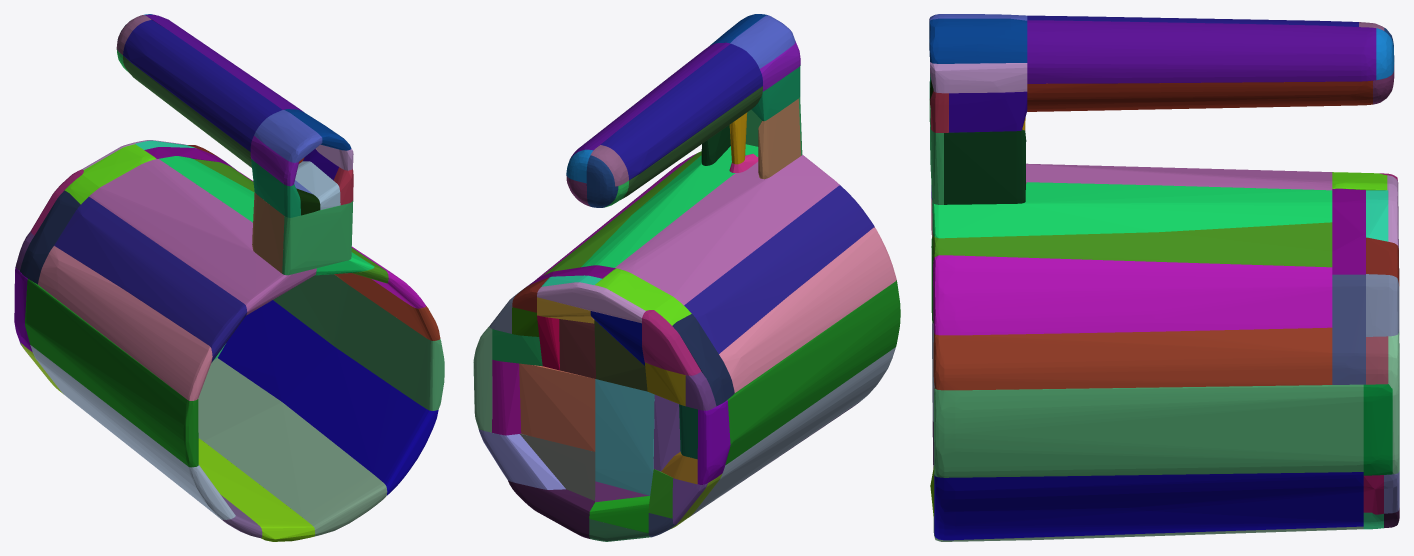
The model's file is coacd_collision.obj.
3 views of the same model, side by side, from view 1: azimuth 30°, elevation 25°; view 2: azimuth 150°, elevation 25°; view 3: azimuth 270°, elevation 25° (orthographic). The views are drawn at different scales.
Parts seen in each view (by area): view 1: geometry_5, geometry_0, geometry_7, geometry_8, geometry_18, geometry_3, geometry_24, geometry_20, geometry_6, geometry_4, geometry_10, geometry_23 (+19 smaller); view 2: geometry_7, geometry_18, geometry_8, geometry_24, geometry_20, geometry_2, geometry_9, geometry_23, geometry_6, geometry_12, geometry_35, geometry_52 (+41 smaller); view 3: geometry_3, geometry_22, geometry_5, geometry_31, geometry_27, geometry_23, geometry_30, geometry_15, geometry_25, geometry_7, geometry_42, geometry_16 (+18 smaller).
Boxes of the visible parts, <box> form: geometry_5: <box>218,300,438,495</box>; geometry_0: <box>198,358,387,536</box>; geometry_7: <box>89,159,316,315</box>; geometry_8: <box>25,279,198,467</box>; geometry_18: <box>54,197,247,362</box>; geometry_3: <box>273,274,444,410</box>; geometry_24: <box>38,246,212,400</box>; geometry_20: <box>123,20,282,151</box>; geometry_6: <box>30,345,235,519</box>; geometry_4: <box>198,438,315,541</box>; geometry_10: <box>282,201,353,275</box>; geometry_23: <box>159,156,374,275</box>; geometry_7: <box>615,154,839,305</box>; geometry_18: <box>684,185,874,353</box>; geometry_8: <box>725,280,900,465</box>; geometry_24: <box>719,227,896,392</box>; geometry_20: <box>601,44,762,179</box>; geometry_2: <box>595,379,654,495</box>; geometry_9: <box>519,363,595,451</box>; geometry_23: <box>581,144,758,267</box>; geometry_6: <box>691,347,895,515</box>; geometry_12: <box>478,429,565,489</box>; geometry_35: <box>520,433,595,500</box>; geometry_52: <box>758,99,800,179</box>; geometry_3: <box>934,384,1363,477</box>; geometry_22: <box>933,255,1332,335</box>; geometry_5: <box>934,472,1363,540</box>; geometry_31: <box>933,327,1332,390</box>; geometry_27: <box>1027,20,1376,83</box>; geometry_23: <box>932,182,1332,238</box>; geometry_30: <box>932,222,1332,267</box>; geometry_15: <box>1027,80,1372,111</box>; geometry_25: <box>944,129,1026,204</box>; geometry_7: <box>1026,163,1332,190</box>; geometry_42: <box>929,18,1027,63</box>; geometry_16: <box>1332,274,1365,384</box>.
Size of the model in its own units: 84.75 by 125 by 105.
